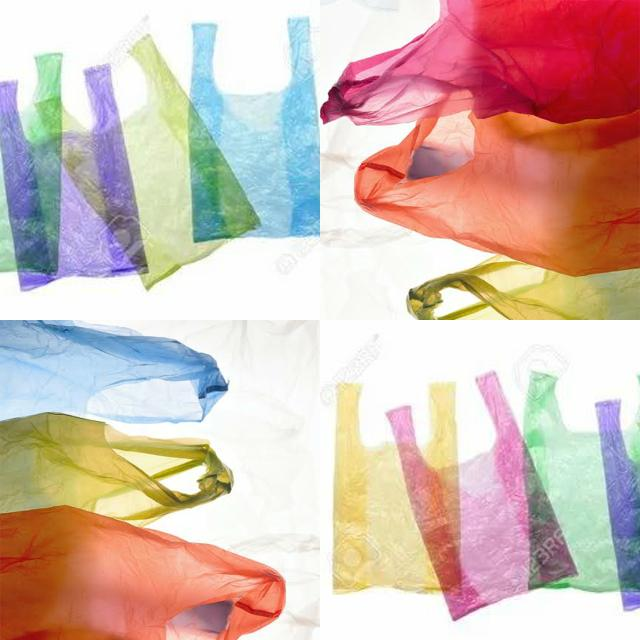Single-layer Plastic: (28, 21, 277, 309), (379, 361, 586, 635), (355, 110, 640, 276), (321, 0, 640, 125), (0, 505, 285, 640), (0, 58, 154, 305), (181, 6, 327, 255), (329, 371, 465, 611), (523, 361, 640, 620), (0, 412, 232, 526), (0, 321, 228, 422), (406, 255, 640, 320)
